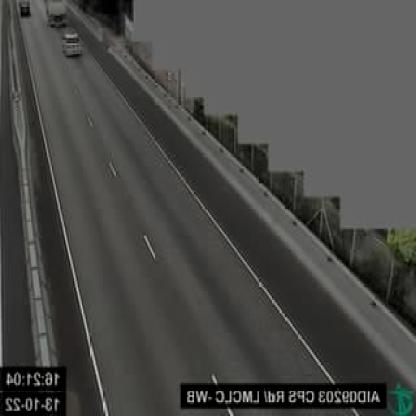Car: (62, 30, 82, 56), (18, 0, 31, 17)
Truck: (42, 0, 68, 27)
